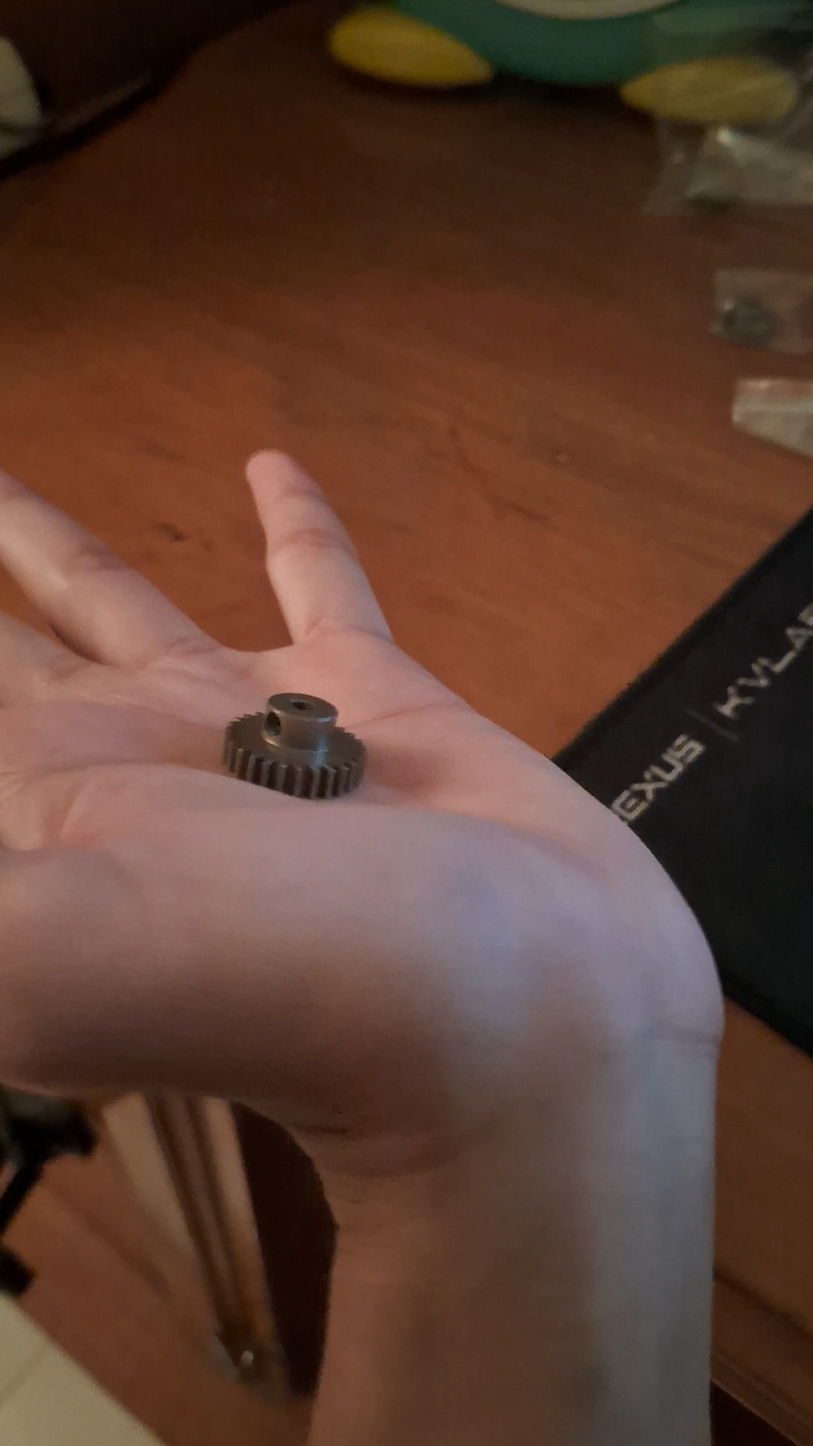spur gear: (223, 693, 366, 801)
